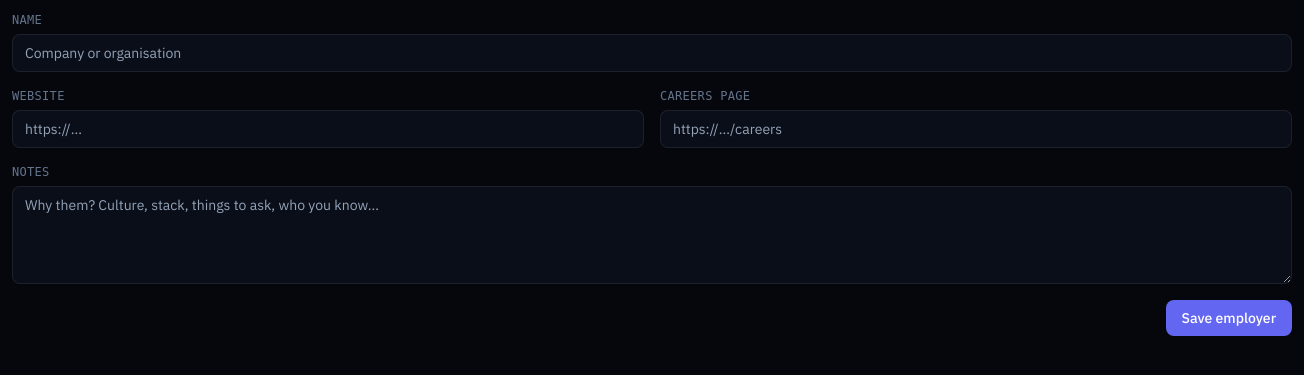
it: EmployerForm › requires a name
This screenshot has width=1304, height=375.
Click the button "Save employer": (1229, 318) 1166,300 -> 1292,336
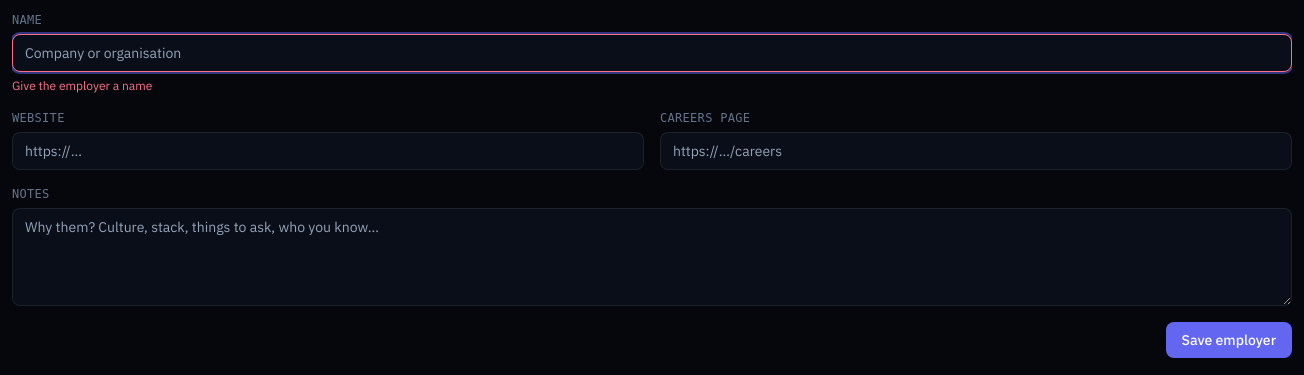
Result: the text "Give the employer a name" is shown at 12,78 -> 152,93
